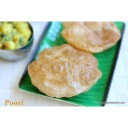poori: (30, 45, 101, 96), (63, 21, 122, 51)
